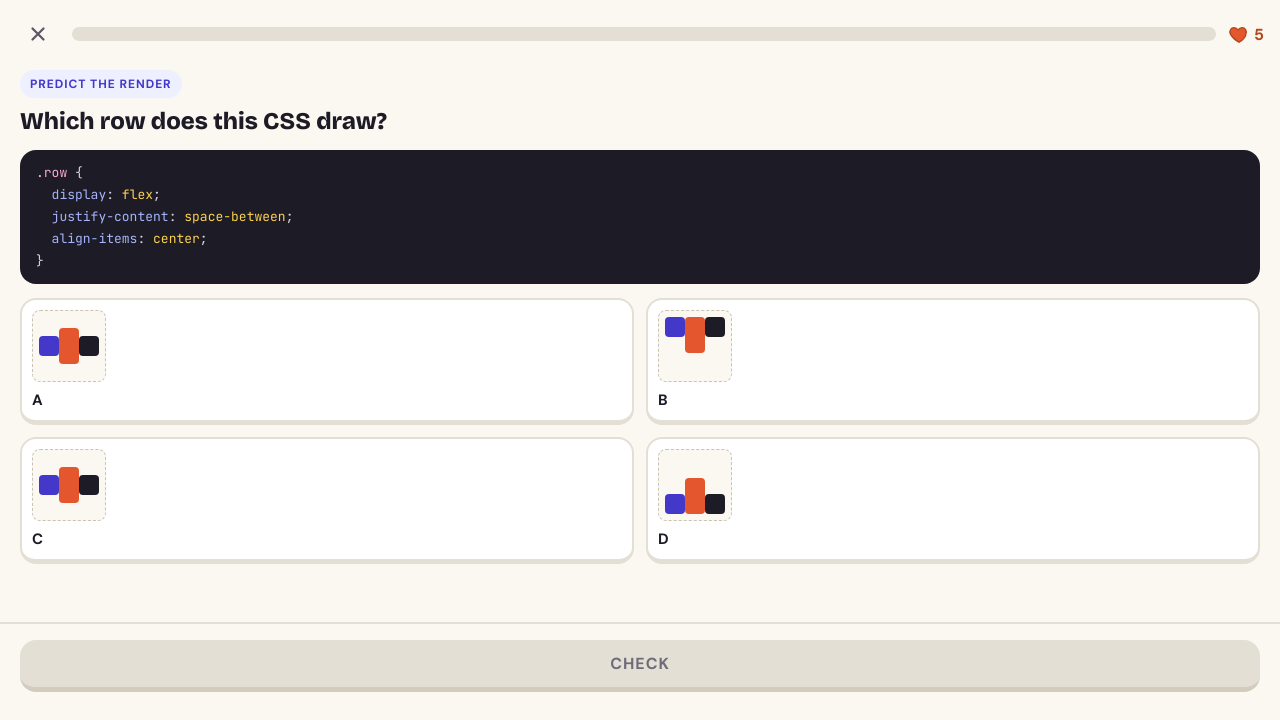
Scenario: Quiz with predict questions › moves to the next question and focuses its prompt
Click the button named "Option C:" at point(69, 485), box [20,437,634,564]
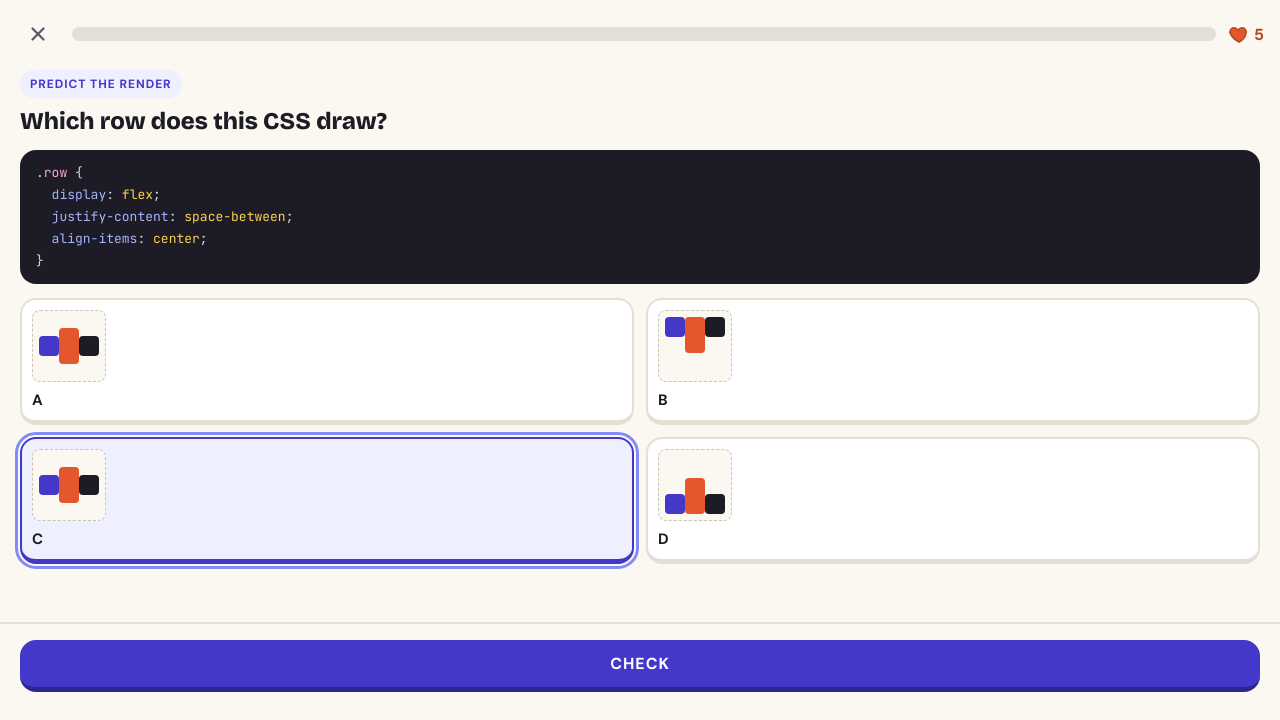
Click the button "Check" at point(640, 666), box [20,640,1260,692]
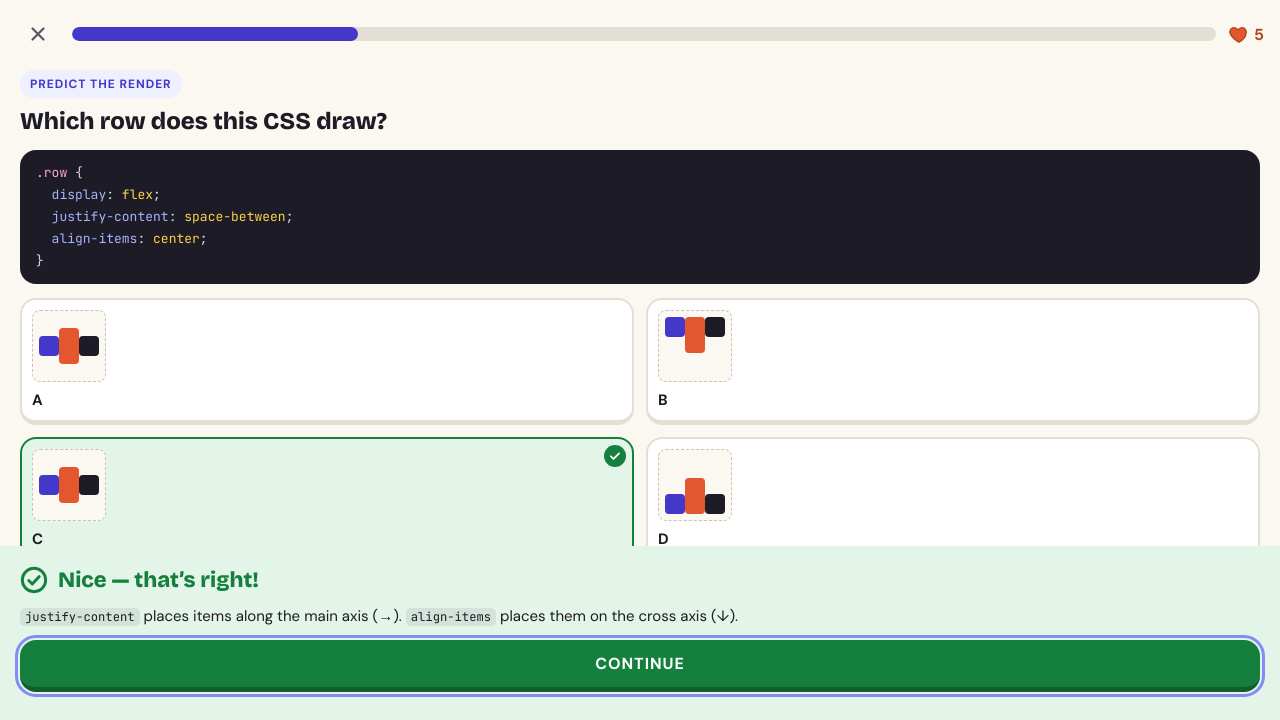
Click the button "Continue" at point(640, 666), box [20,640,1260,692]
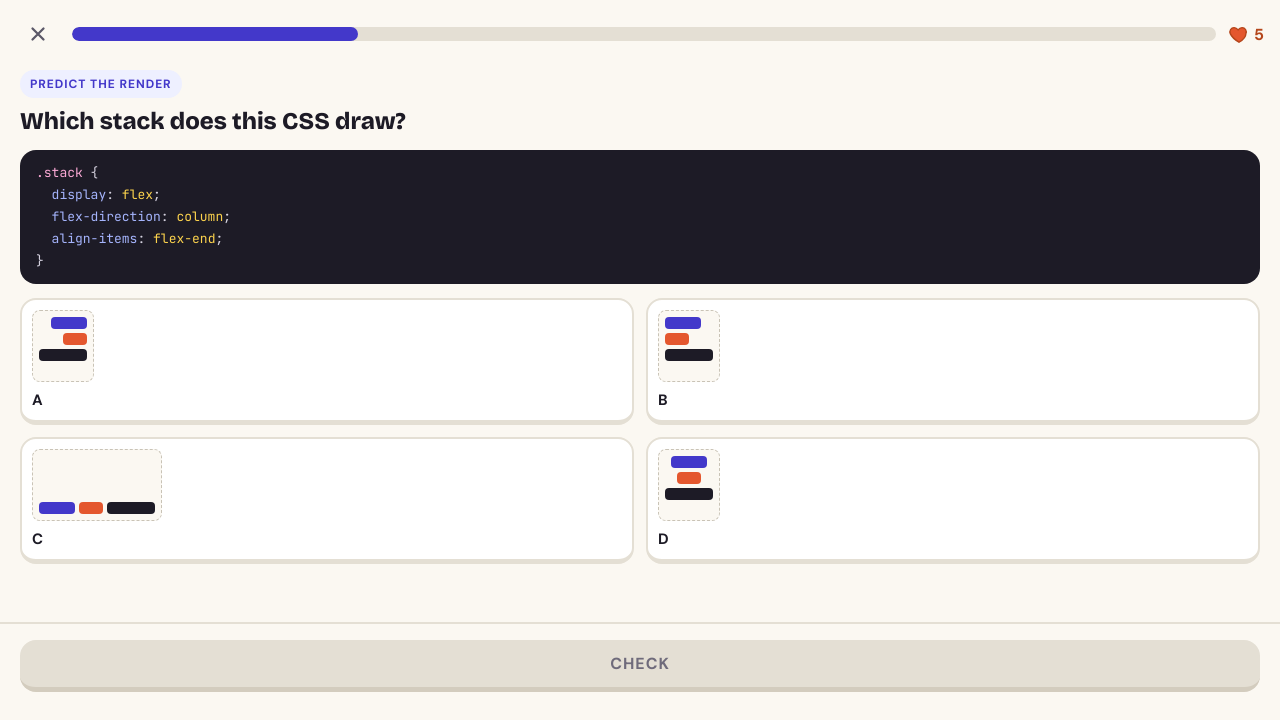
Expected: the heading reads "Which stack does this CSS draw?", [20,107,406,135]
